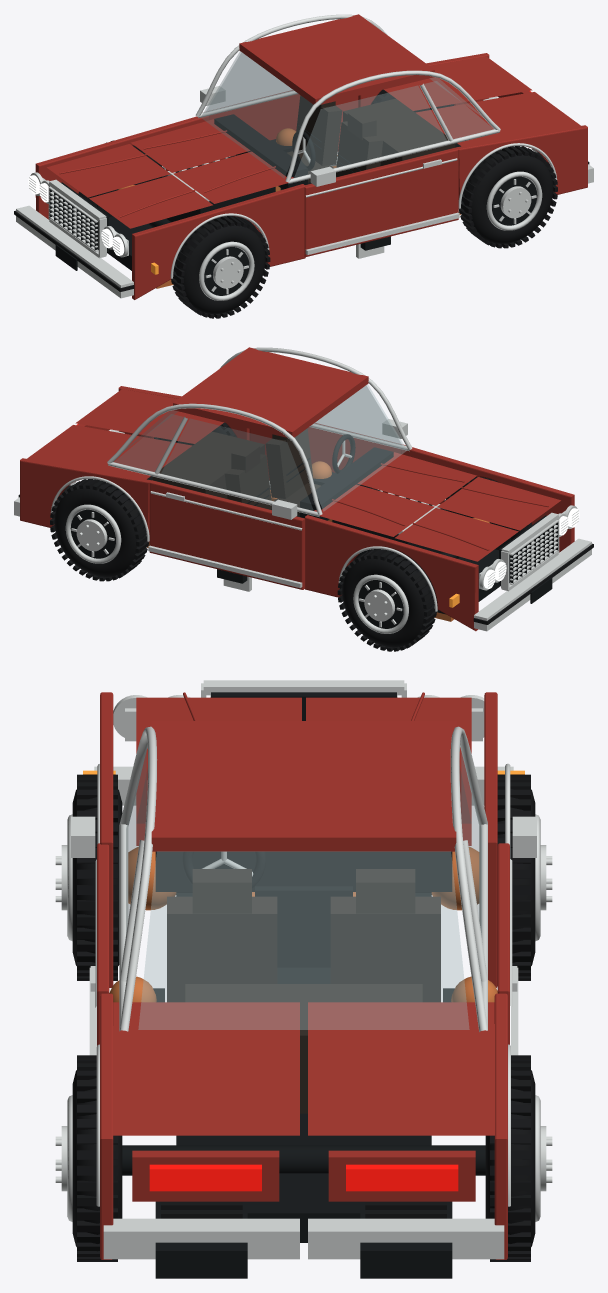
Rendered from C72-coupe.glb.
The picture shows the model from 3 angles, top to bottom: view 1: azimuth 30°, elevation 25°; view 2: azimuth 150°, elevation 25°; view 3: azimuth 270°, elevation 25°; orthographic projection. The views are drawn at different scales.
Visible parts, largest first — view 1: Bonnet articulated panel (×4), Two-door outer skin (×2), Main side window (×2), Classic coupe roof, Front wheel arch (×2), Split rear deck (×2), Panoramic front windscreen, Rubber tire (×2), Rear quarter panel (×2), Polished window surround (×4), Front seat back (×2), Rear bench (+15 smaller); view 2: Bonnet articulated panel (×4), Two-door outer skin (×2), Main side window (×2), Classic coupe roof, Front wheel arch (×2), Split rear deck (×2), Panoramic front windscreen, Rubber tire (×2), Rear quarter panel (×2), Polished window surround (×4), Front seat back (×2), Rear bench (+17 smaller); view 3: Sloped rear windscreen, Split rear deck (×2), Classic coupe roof, Front seat back (×2), Split rear bumper (×2), Polished window surround (×6), Rear fascia (×2), Bonnet articulated panel (×2), Dashboard, Rubber tire (×4), Box-section chassis, Undertray / foot pad (×2) (+14 smaller).
Boxes of the visible parts, x1=… form: Bonnet articulated panel (×4): x1=47, y1=119, x2=293, y2=228; Two-door outer skin (×2): x1=209, y1=90, x2=458, y2=257; Main side window (×2): x1=206, y1=53, x2=446, y2=177; Classic coupe roof: x1=239, y1=14, x2=434, y2=104; Front wheel arch (×2): x1=35, y1=116, x2=305, y2=299; Split rear deck (×2): x1=384, y1=56, x2=580, y2=146; Panoramic front windscreen: x1=201, y1=51, x2=312, y2=178; Rubber tire (×2): x1=175, y1=150, x2=553, y2=314; Rear quarter panel (×2): x1=358, y1=53, x2=587, y2=208; Polished window surround (×4): x1=195, y1=14, x2=500, y2=183; Front seat back (×2): x1=296, y1=95, x2=382, y2=176; Rear bench: x1=343, y1=98, x2=455, y2=166; Bonnet articulated panel (×4): x1=314, y1=452, x2=560, y2=561; Two-door outer skin (×2): x1=149, y1=423, x2=402, y2=589; Main side window (×2): x1=161, y1=386, x2=401, y2=510; Classic coupe roof: x1=173, y1=347, x2=368, y2=437; Front wheel arch (×2): x1=305, y1=445, x2=574, y2=631; Split rear deck (×2): x1=27, y1=389, x2=223, y2=479; Panoramic front windscreen: x1=295, y1=384, x2=406, y2=511; Rubber tire (×2): x1=54, y1=483, x2=432, y2=647; Rear quarter panel (×2): x1=20, y1=386, x2=249, y2=541; Polished window surround (×4): x1=107, y1=347, x2=412, y2=516; Front seat back (×2): x1=225, y1=428, x2=313, y2=509; Rear bench: x1=152, y1=431, x2=264, y2=498; Sloped rear windscreen: x1=138, y1=851, x2=469, y2=1029; Split rear deck (×2): x1=113, y1=1002, x2=494, y2=1135; Classic coupe roof: x1=151, y1=721, x2=456, y2=851; Front seat back (×2): x1=167, y1=896, x2=440, y2=1002; Split rear bumper (×2): x1=103, y1=1218, x2=504, y2=1259; Polished window surround (×6): x1=119, y1=726, x2=487, y2=1031; Rear fascia (×2): x1=132, y1=1150, x2=475, y2=1201; Bonnet articulated panel (×2): x1=136, y1=697, x2=471, y2=771; Dashboard: x1=155, y1=851, x2=452, y2=891; Rubber tire (×4): x1=72, y1=788, x2=535, y2=1251; Box-section chassis: x1=176, y1=892, x2=431, y2=1242; Undertray / foot pad (×2): x1=155, y1=1201, x2=452, y2=1278.
Bounding box in the file's own units: 5.49 × 2.02 × 2.43.
